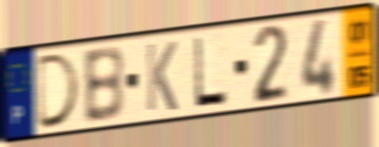2: (251, 23, 289, 107)
4: (299, 16, 338, 99)
B: (80, 43, 126, 127)
D: (35, 50, 83, 133)
K: (144, 39, 179, 114)
L: (192, 33, 230, 110)
